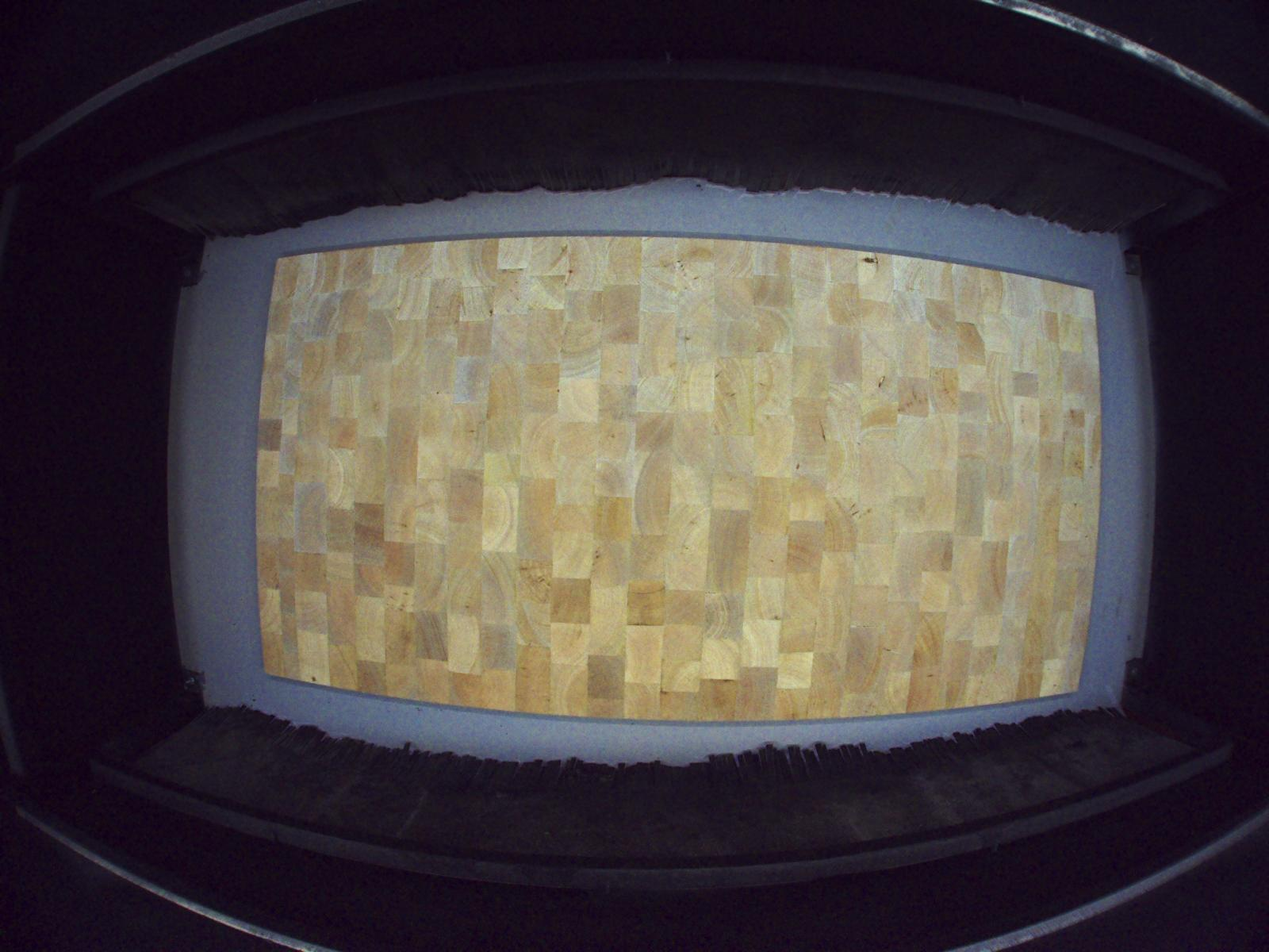sheck_ecuatoriano: (861, 251, 879, 272)
